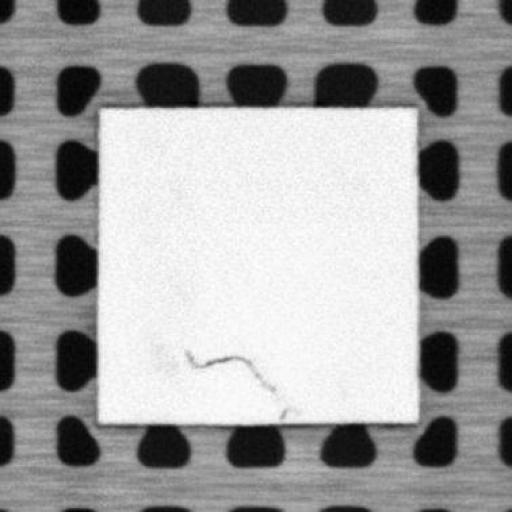DIE_INK: (182, 346, 278, 390), (275, 400, 293, 420)
